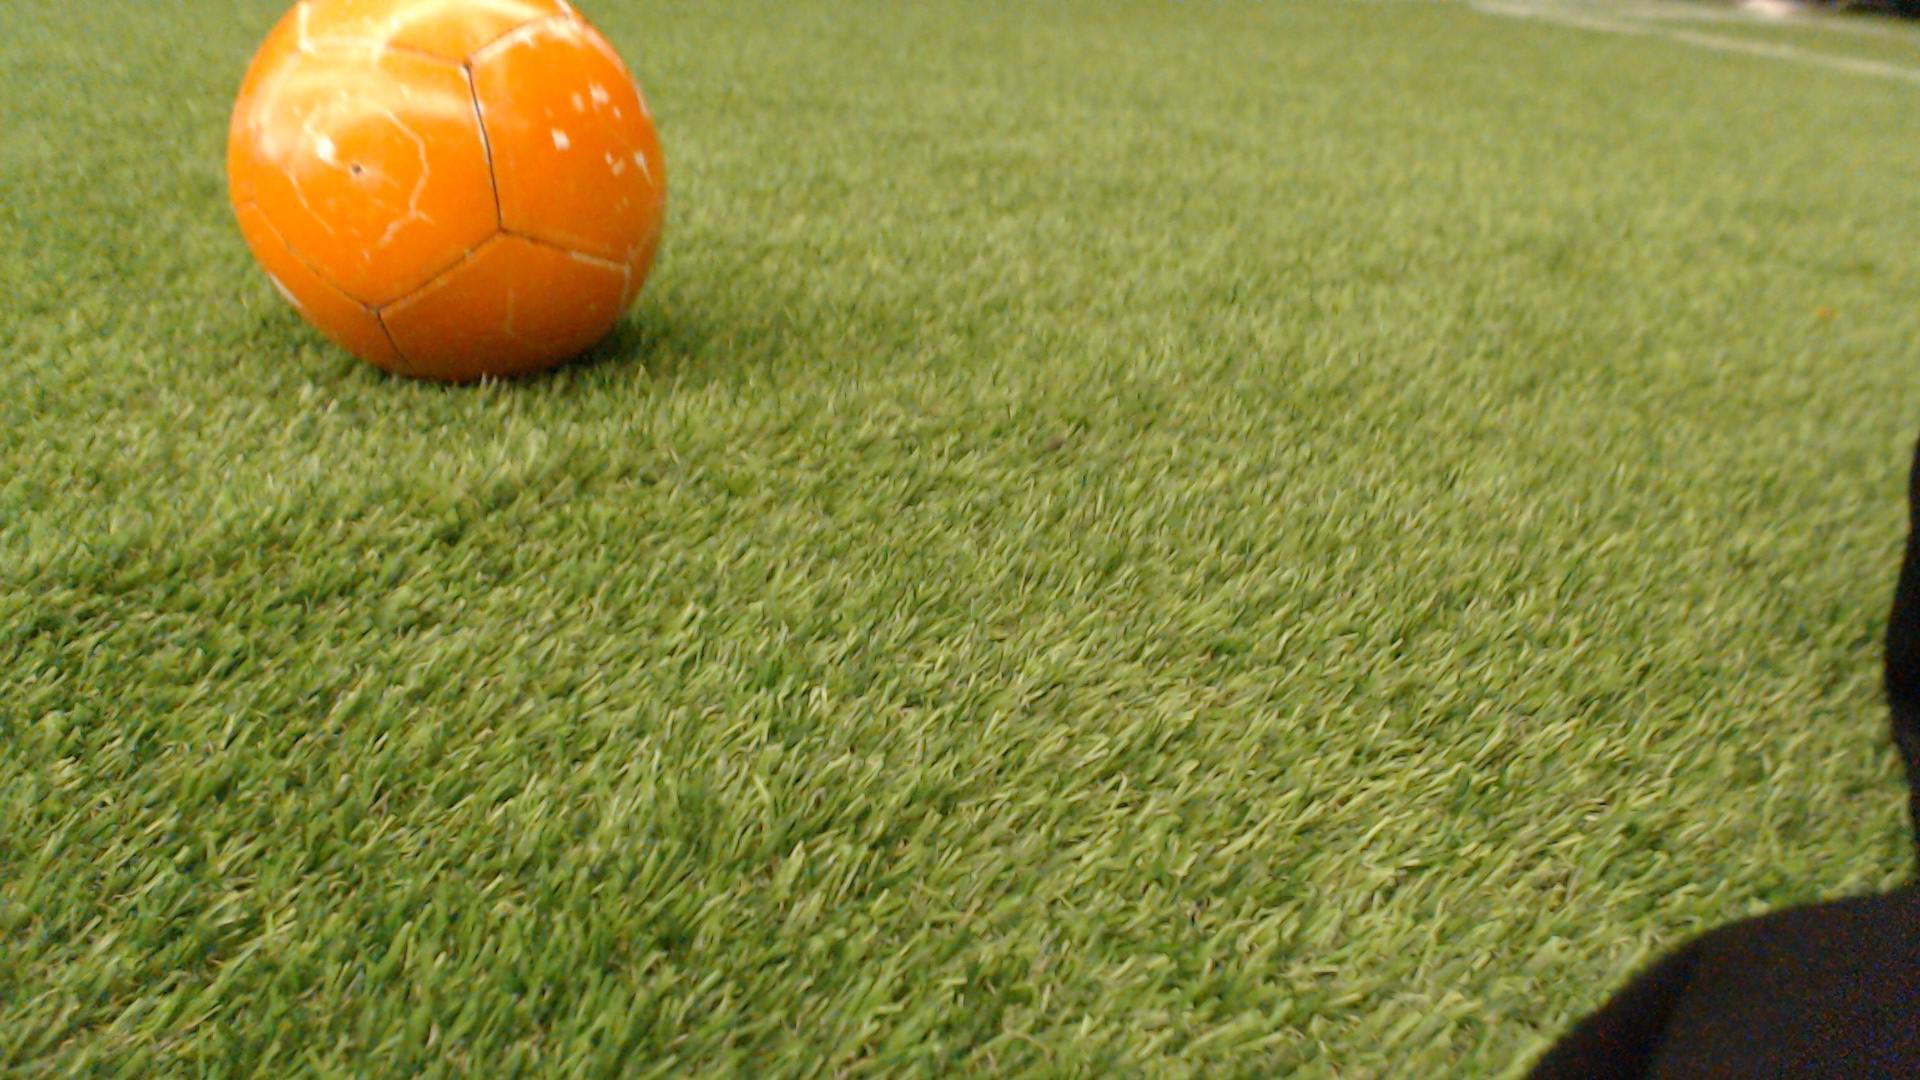bola: (185, 0, 712, 402)
